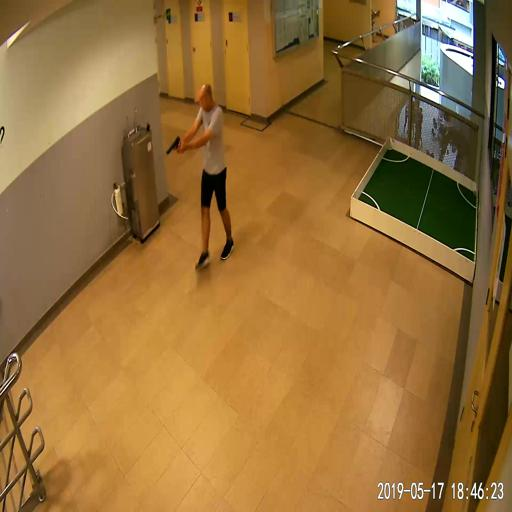pistol: (166, 136, 181, 156)
